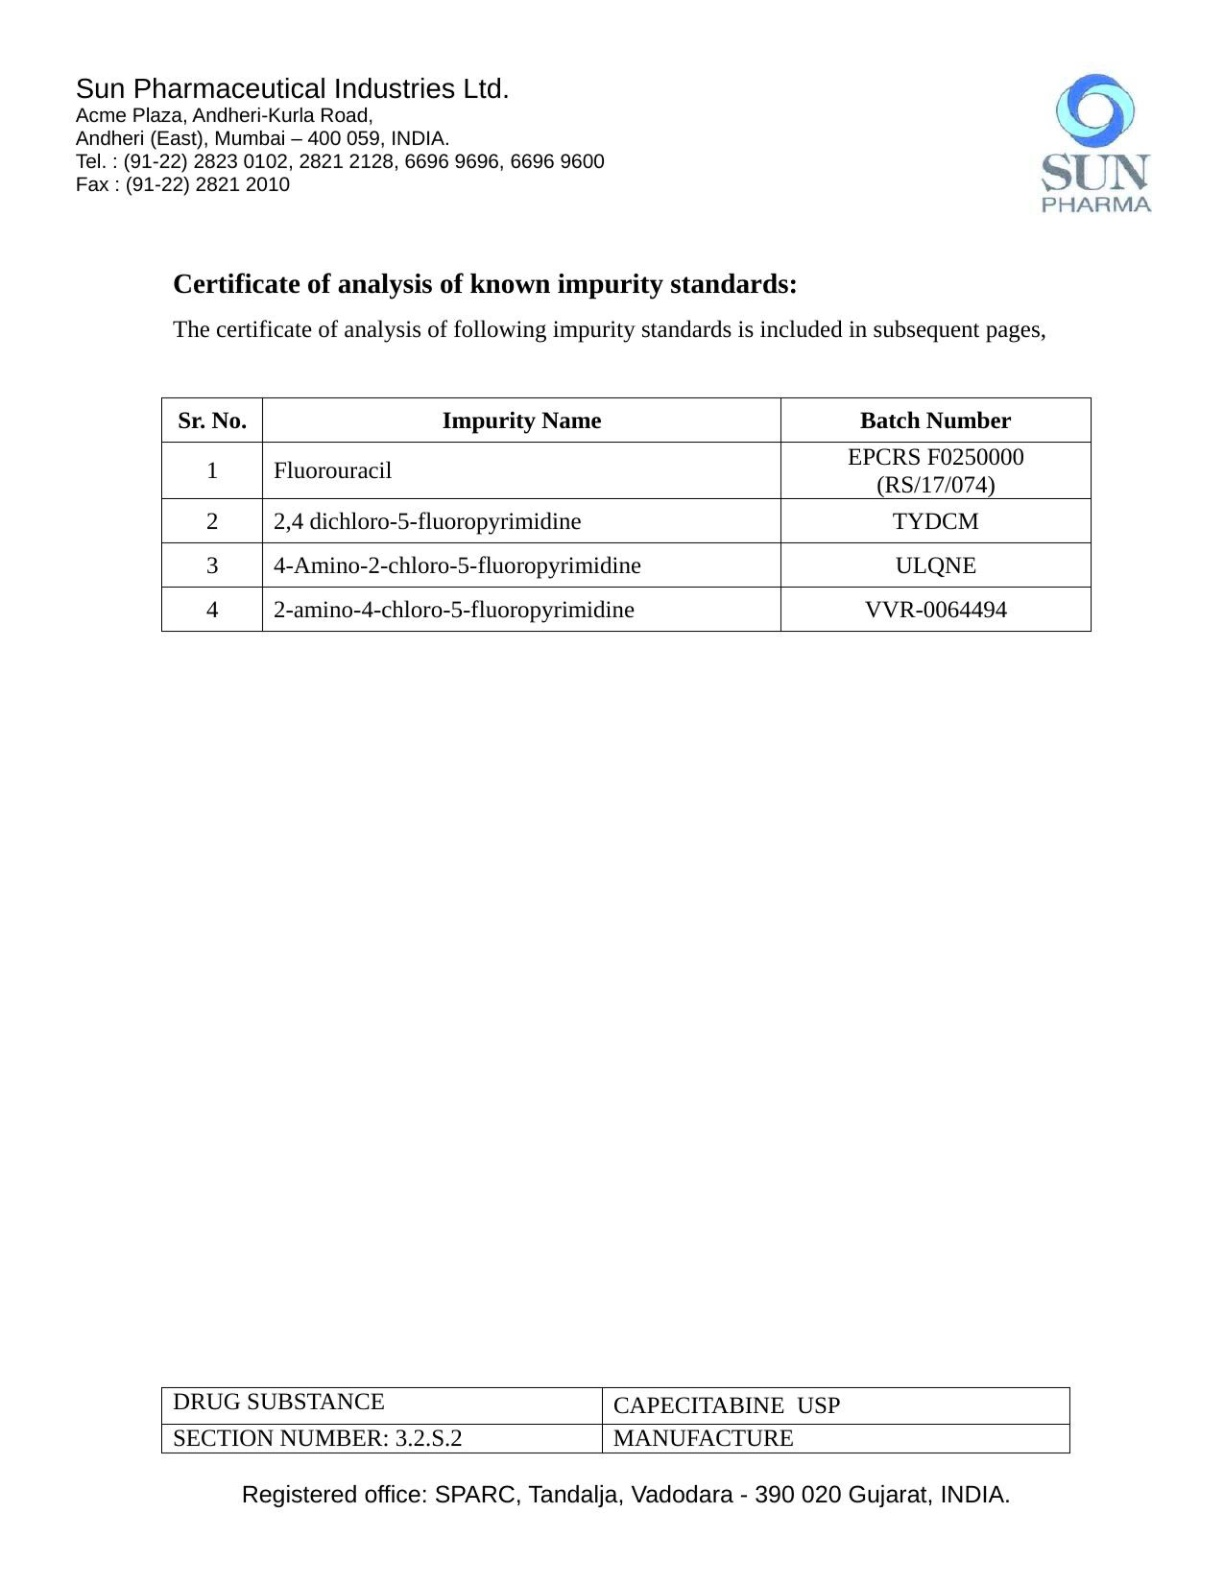full_lined: (161, 396, 1092, 632), (161, 1386, 1071, 1454)
